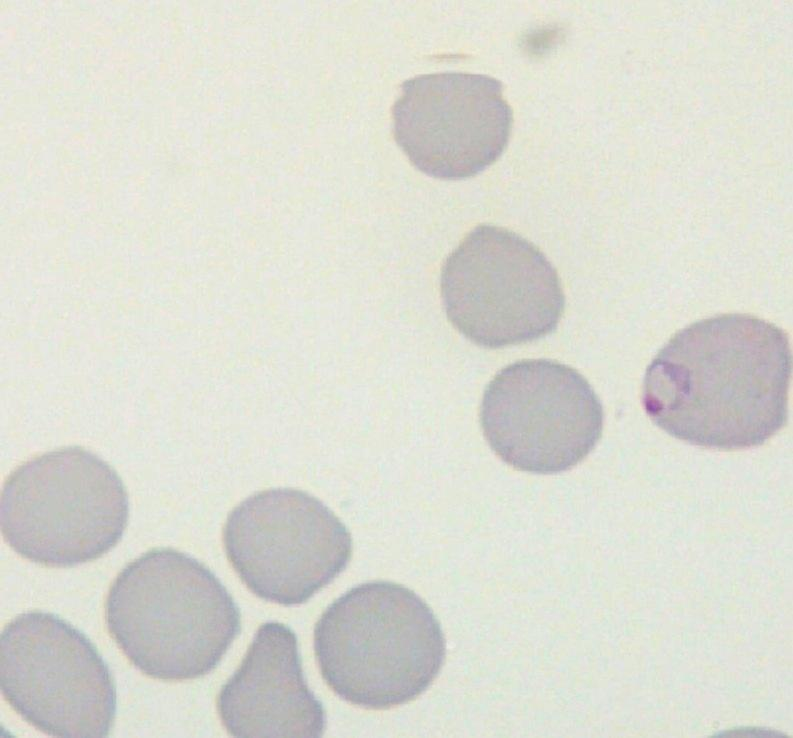Infected: (0, 283, 153, 430)
Uninfected: (556, 55, 685, 190), (346, 27, 476, 156), (228, 391, 356, 516), (666, 167, 787, 294), (436, 131, 565, 248), (192, 261, 315, 383), (680, 0, 791, 131), (278, 559, 403, 669), (468, 0, 575, 119)
